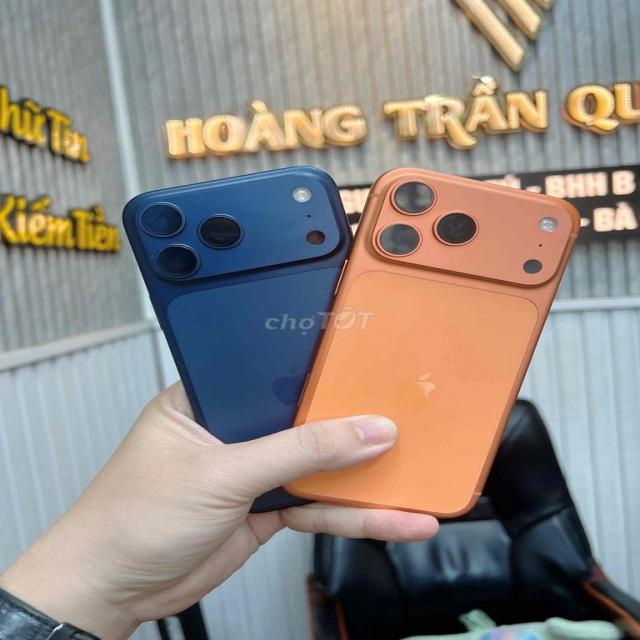gen_17: (122, 167, 351, 442), (158, 245, 198, 276)
